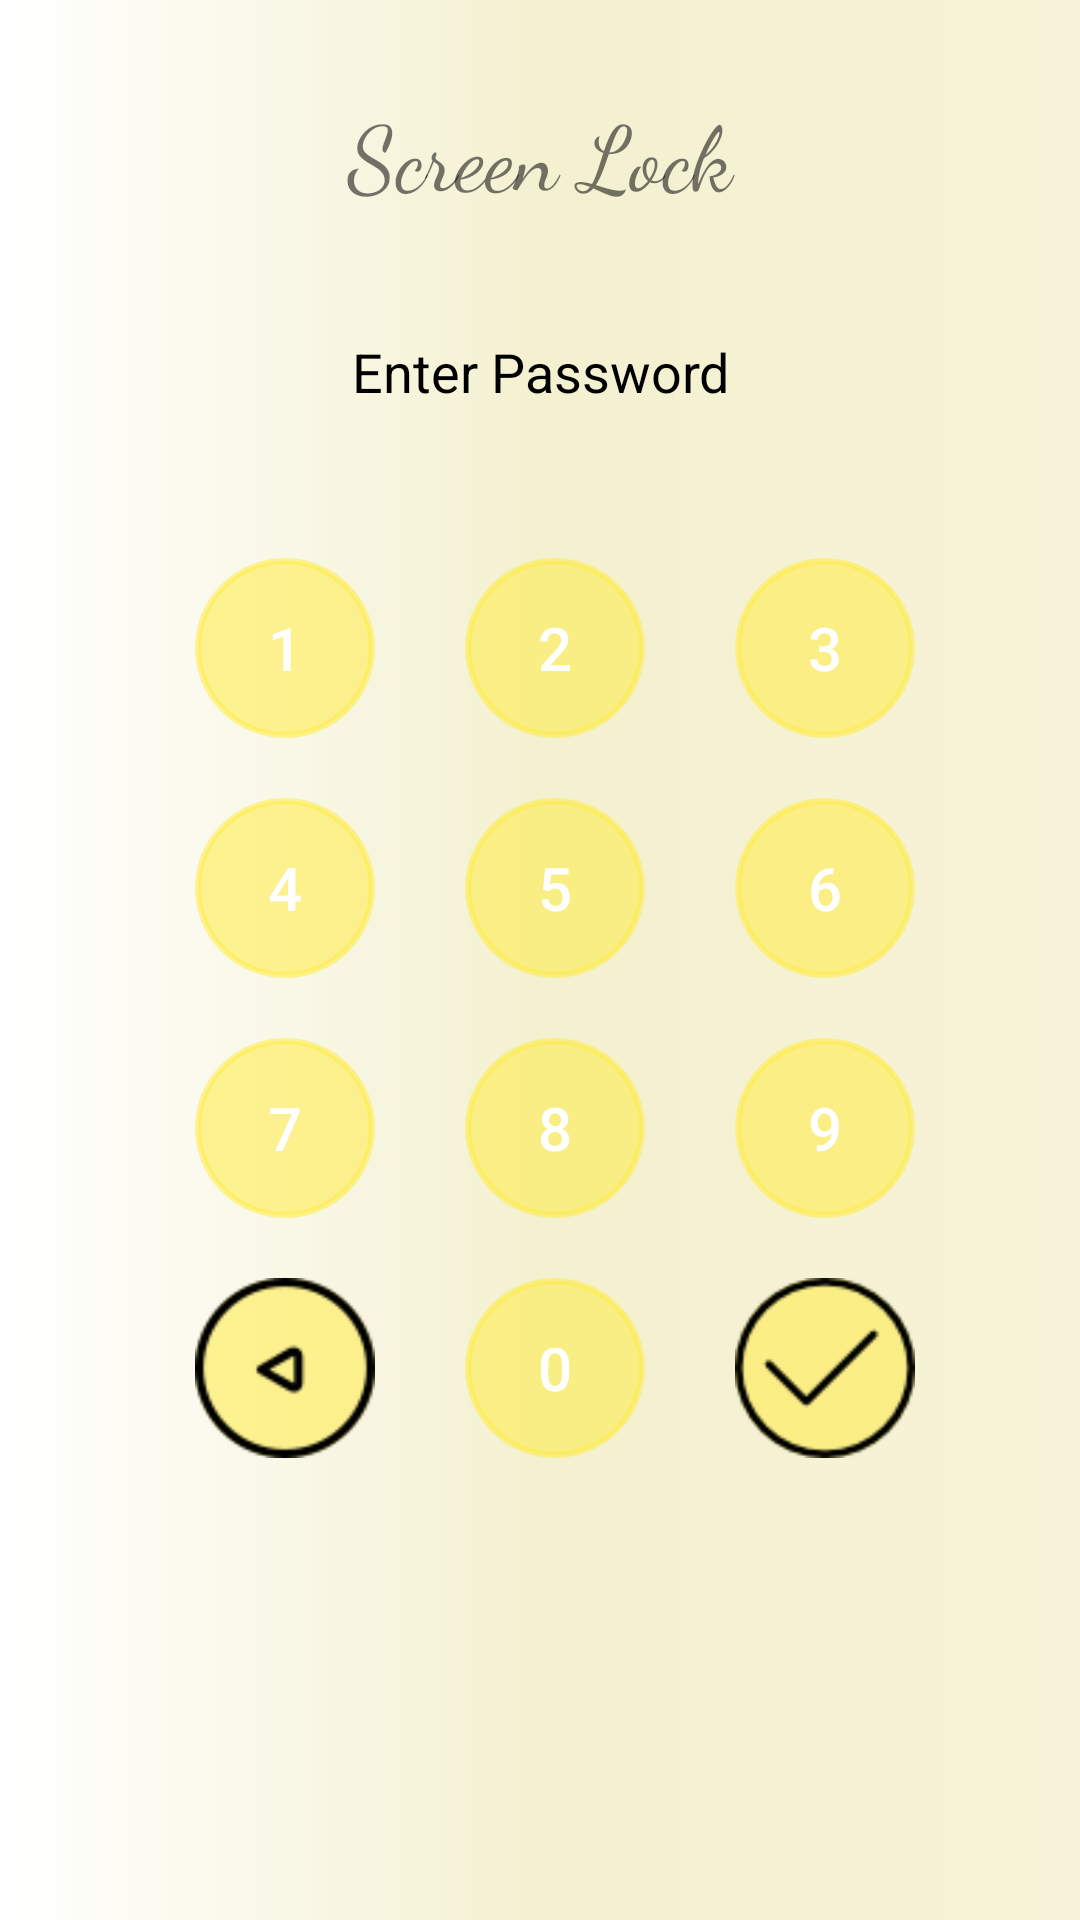

Screen size 1080x1920. Icon name, then its box in pixels as (x1, y1, x2, y2):
back: (195, 1278, 375, 1458)
check: (735, 1278, 915, 1458)
